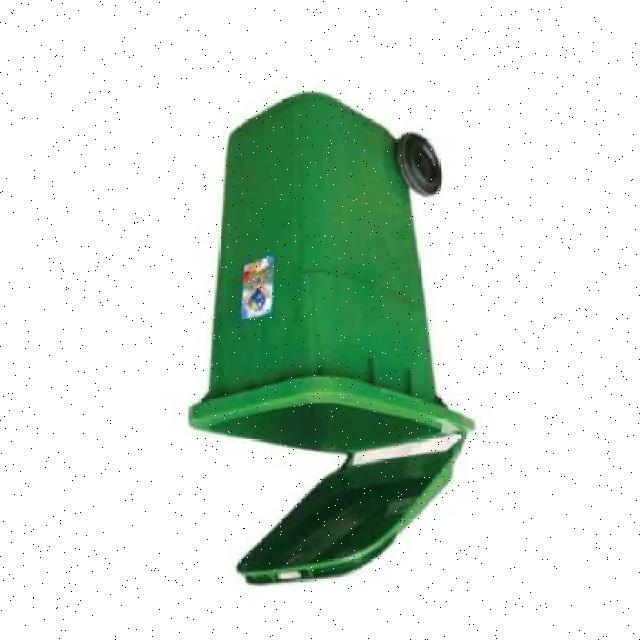garbage container: (170, 81, 484, 469)
